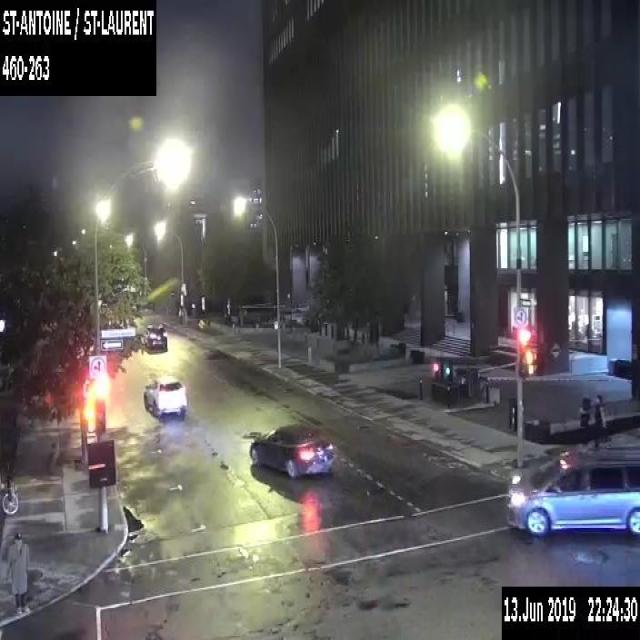pedestrian: (5, 532, 30, 615), (593, 393, 605, 446), (578, 395, 590, 446)
vehicle: (506, 444, 639, 536), (249, 423, 336, 477), (144, 376, 189, 417), (144, 322, 166, 349)
